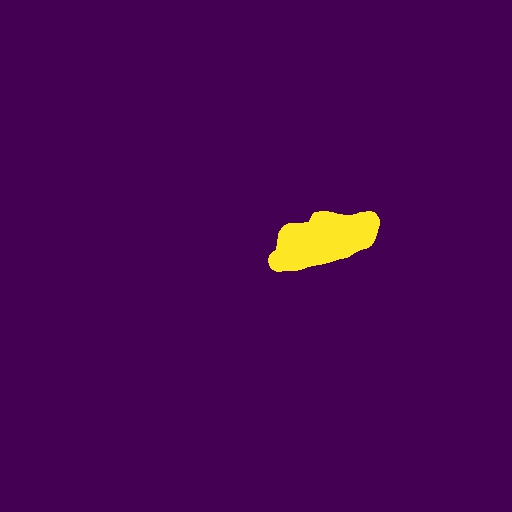Menigiomia_tumour: (268, 211, 380, 272)
